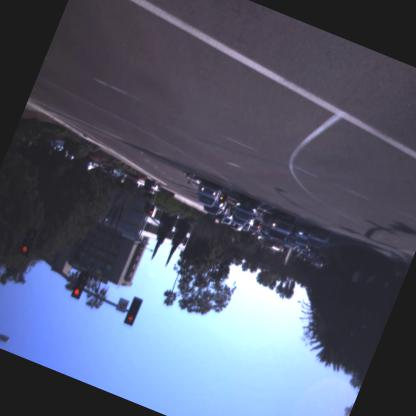trafficlight: (11, 219, 44, 264), (119, 290, 144, 330), (66, 266, 90, 304)
